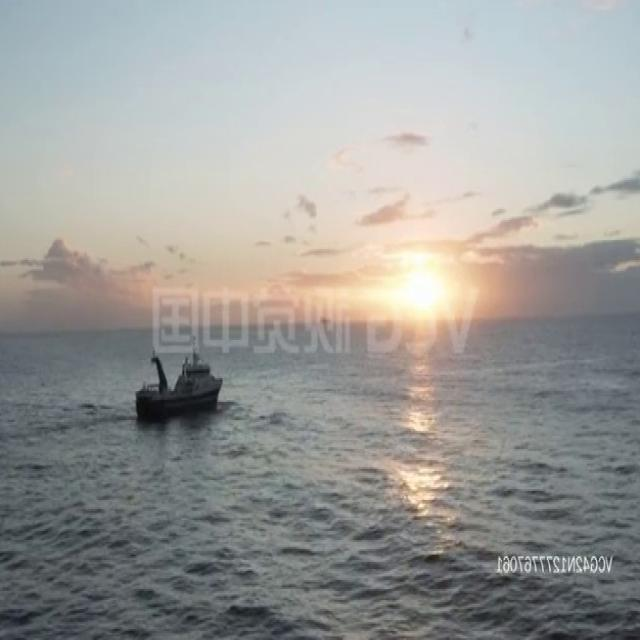houseboat: (136, 345, 222, 420)
